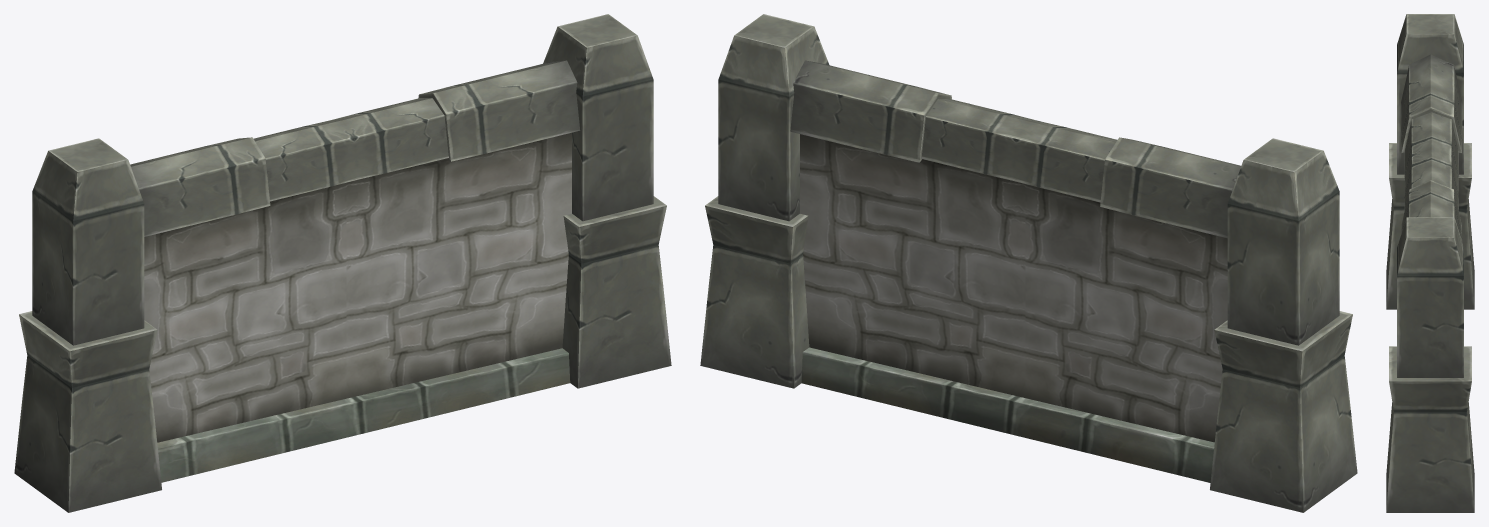
File: wall_02.fbx
The picture shows the model from 3 angles, left to right: view 1: azimuth 30°, elevation 25°; view 2: azimuth 150°, elevation 25°; view 3: azimuth 270°, elevation 25°; orthographic projection. The views are drawn at different scales.
Visible parts, largest first — view 1: wall_02:Mesh; view 2: wall_02:Mesh; view 3: wall_02:Mesh.
Part boxes in pixels (x1,y1,x2,y2): wall_02:Mesh: (14,14,671,512); wall_02:Mesh: (700,14,1357,512); wall_02:Mesh: (1386,14,1474,512).
Bounding box in the file's own units: 5.43 × 2.81 × 0.8432.
